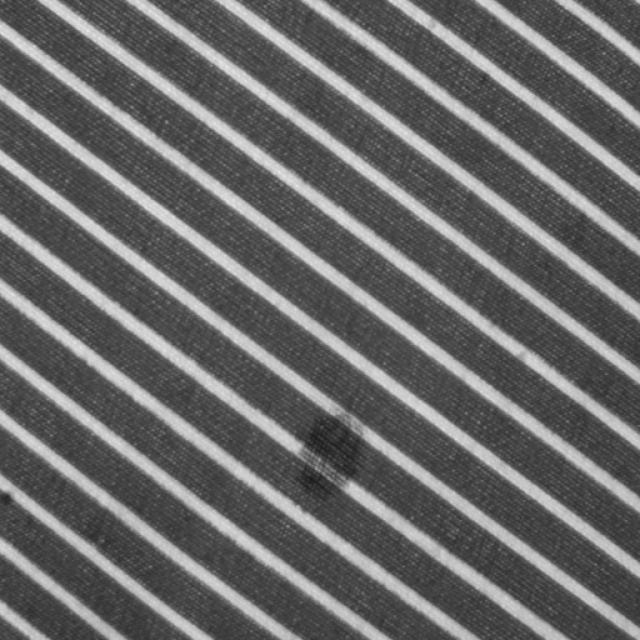Stain-Defect: (292, 410, 365, 510)
